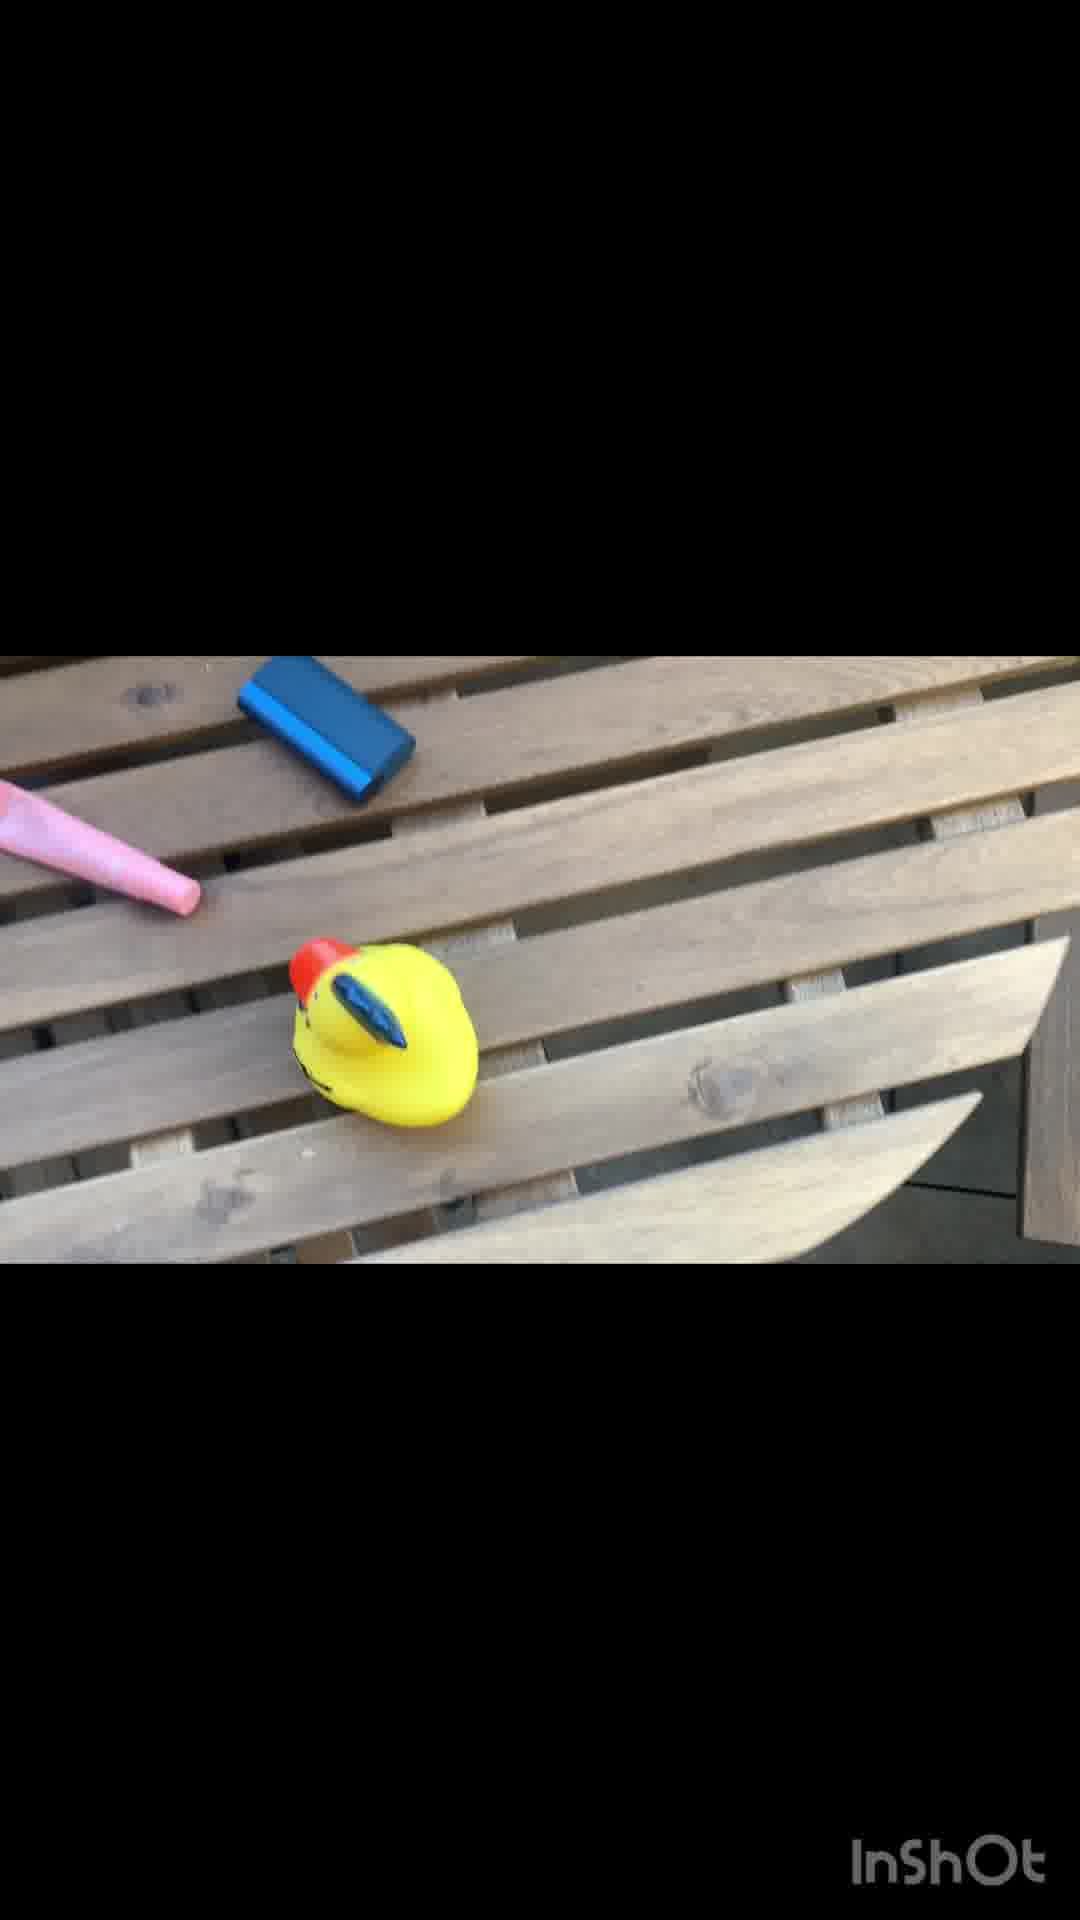duck: (285, 920, 495, 1127)
glo: (208, 657, 421, 804)
lip balm: (1, 762, 214, 926)
